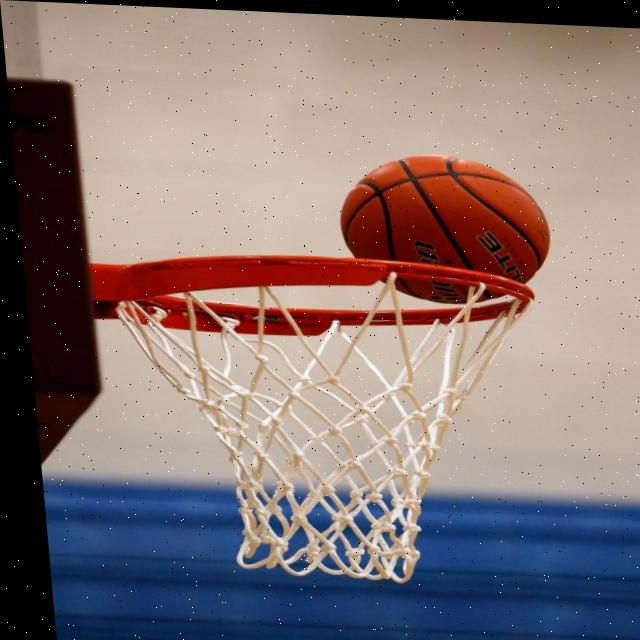basketball: (335, 152, 555, 310)
hoop: (112, 246, 558, 589)
